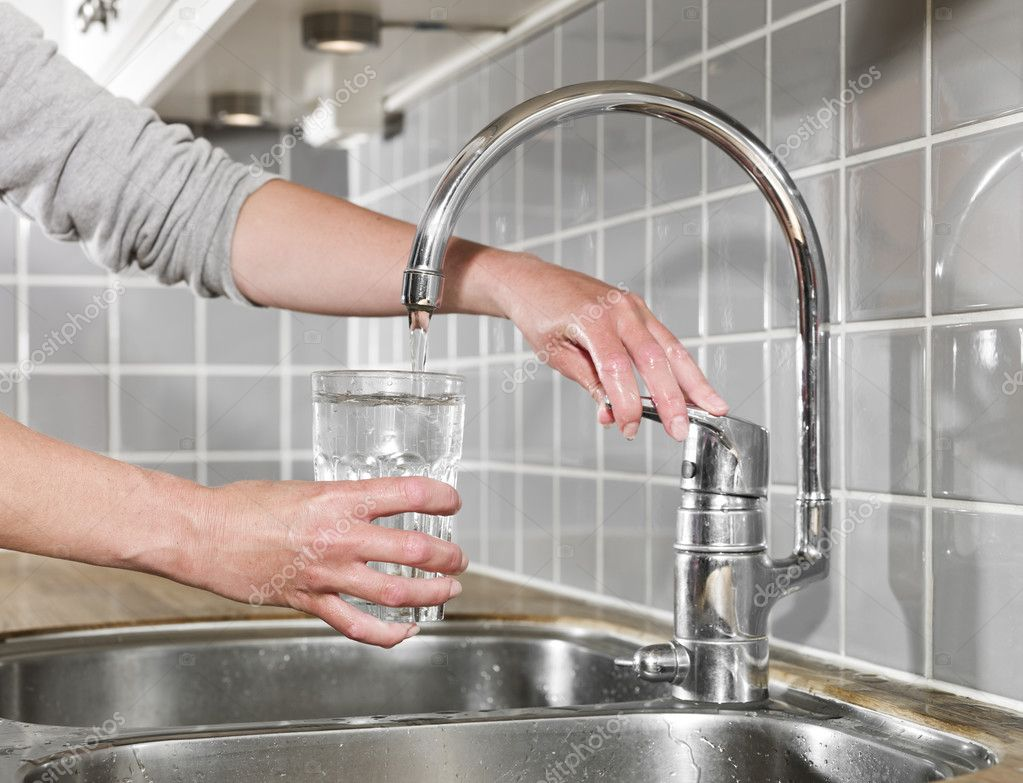glass of water: (322, 373, 455, 629)
